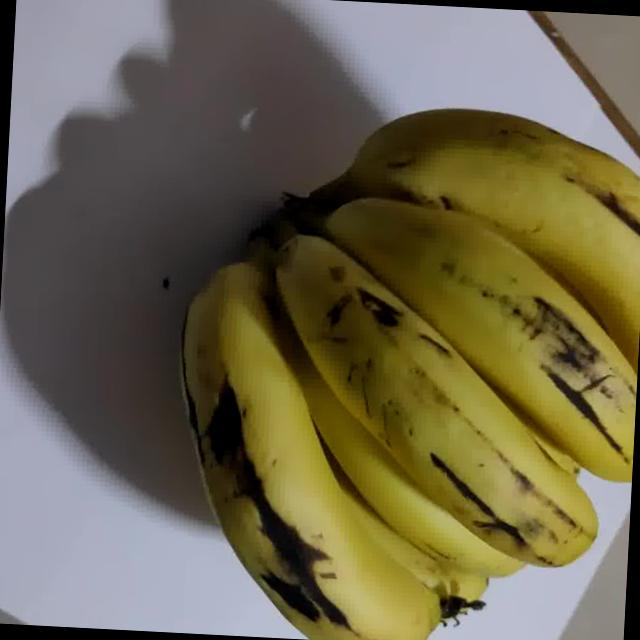apple: (76, 25, 640, 640)
